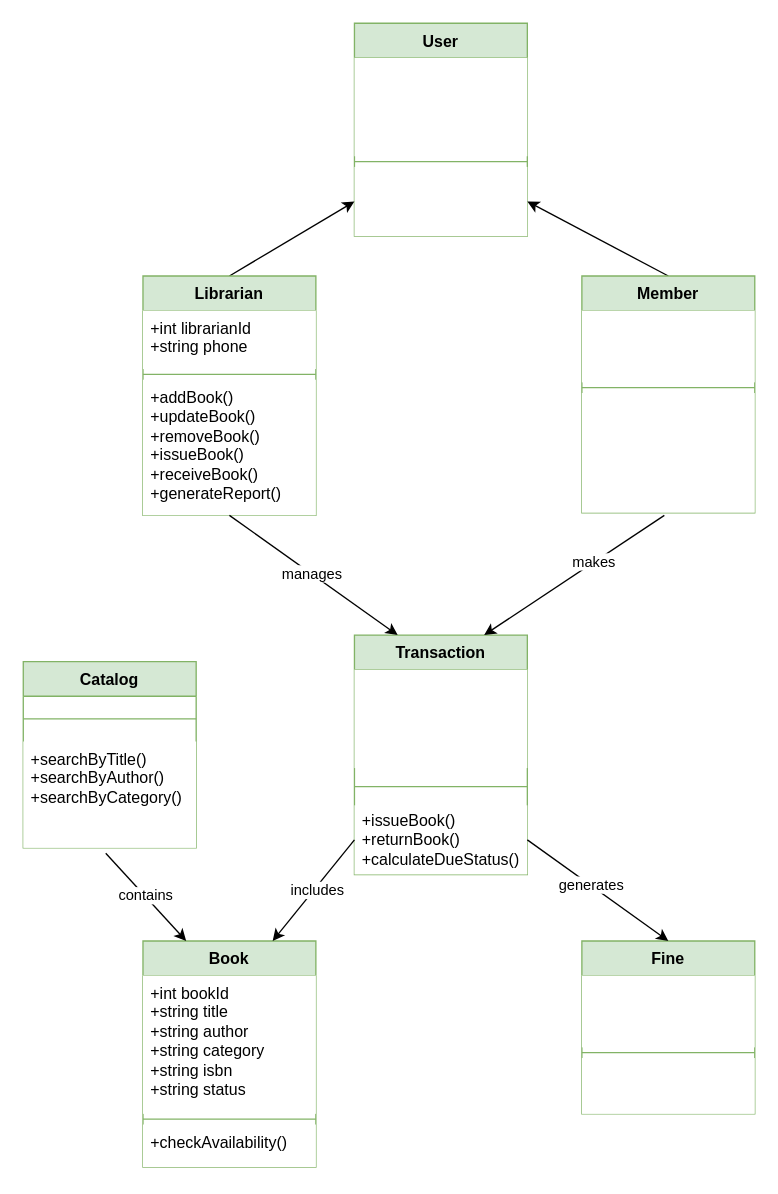
Some shapes in this 778 by 1194 pixel diagram are drawn without their labels. The centre of each missing label's shape, as x and y in pixels:
"+calculateFine() +markPaid()" belongs at point (667, 1085).
"+int fineId +float amount +int lateDays" belongs at point (667, 1011).
"+int id +string name +string email +string password" belongs at point (440, 106).
"+int memberId +string phone +string address" belongs at point (667, 346).
"+int transactionId +date issueDate +date dueDate +date returnDate +string status" belongs at point (440, 718).
"+login() +logout()" belongs at point (440, 200).
"+searchBook() +borrowBook() +returnBook() +payFine()" belongs at point (667, 452).
